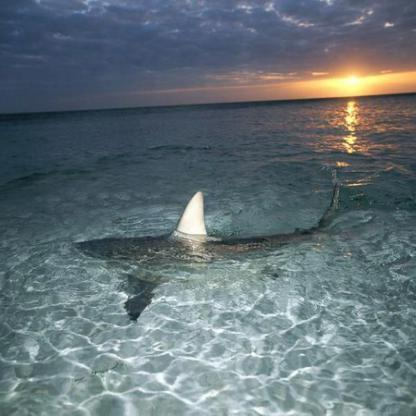Shark -Selachimorpha-: (72, 182, 340, 323)
